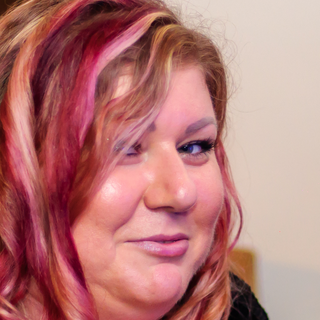eye: (172, 135, 219, 162)
